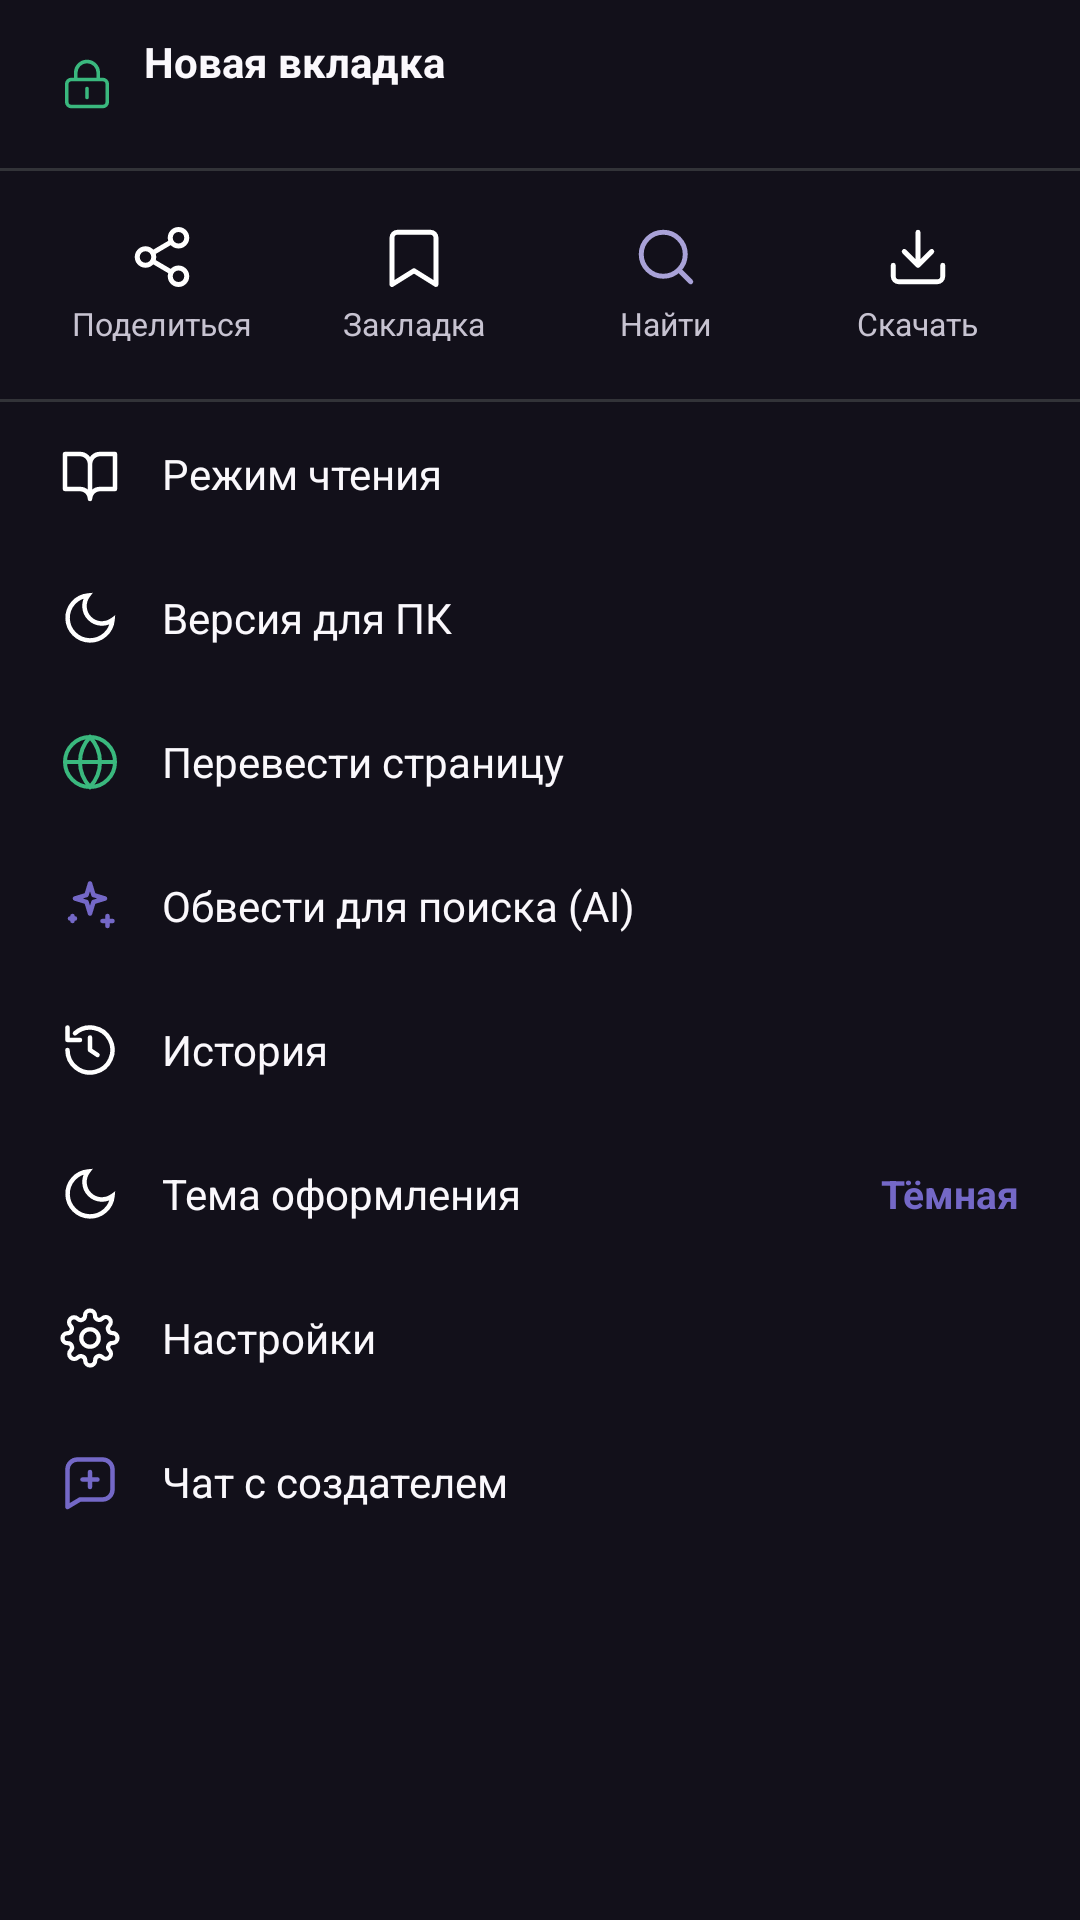

Icon bounding boxes for this 1080x1920 phone screenshot, format (x1, y1, x2, y2):
book open: (62, 451, 118, 502)
gear: (60, 1308, 120, 1368)
globe: (63, 734, 117, 790)
history: (65, 1025, 115, 1075)
lock: (65, 59, 109, 109)
moon: (65, 592, 116, 643), (65, 1168, 116, 1219)
spark: (67, 881, 115, 929)
support: (65, 1457, 115, 1510)
